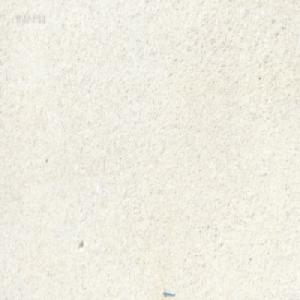Nail: (162, 286, 175, 295)
